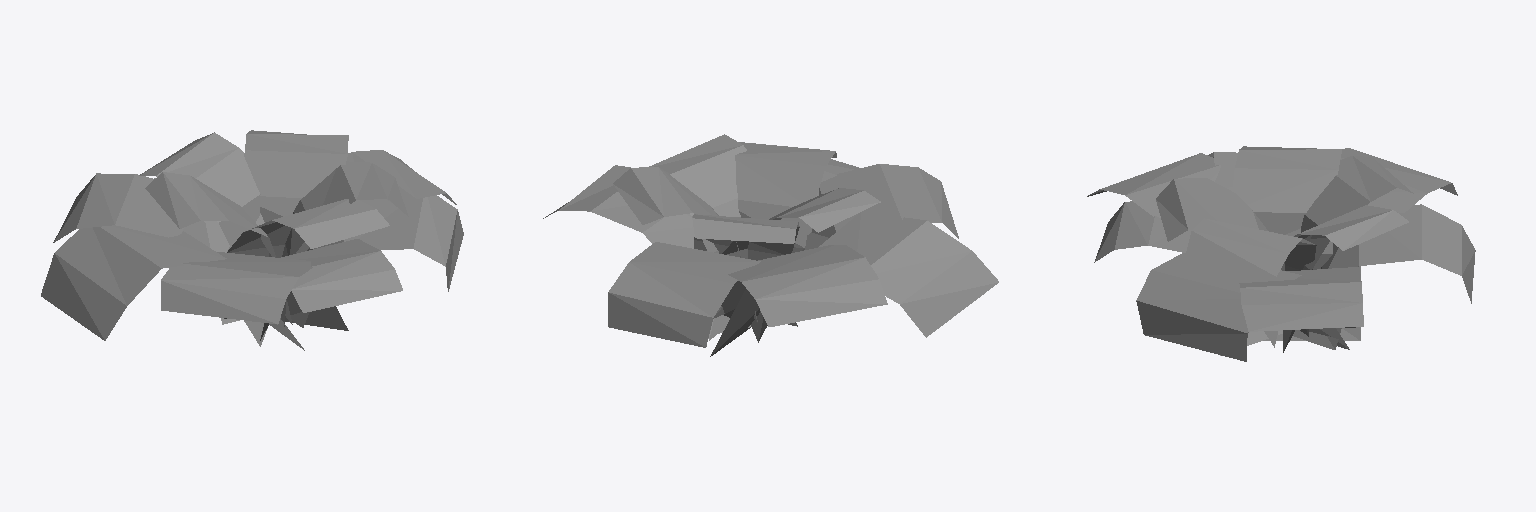
File: fern.obj
3 views of the same model, side by side, from view 1: azimuth 30°, elevation 25°; view 2: azimuth 150°, elevation 25°; view 3: azimuth 270°, elevation 25° (orthographic).
Parts seen in each view (by area): view 1: default; view 2: default; view 3: default.
Part boxes in pixels (x1,y1,x2,y2): default: (41, 130, 463, 350); default: (543, 134, 998, 356); default: (1087, 146, 1475, 361).
Bounding box in the file's own units: 11.34 × 4.33 × 10.04.